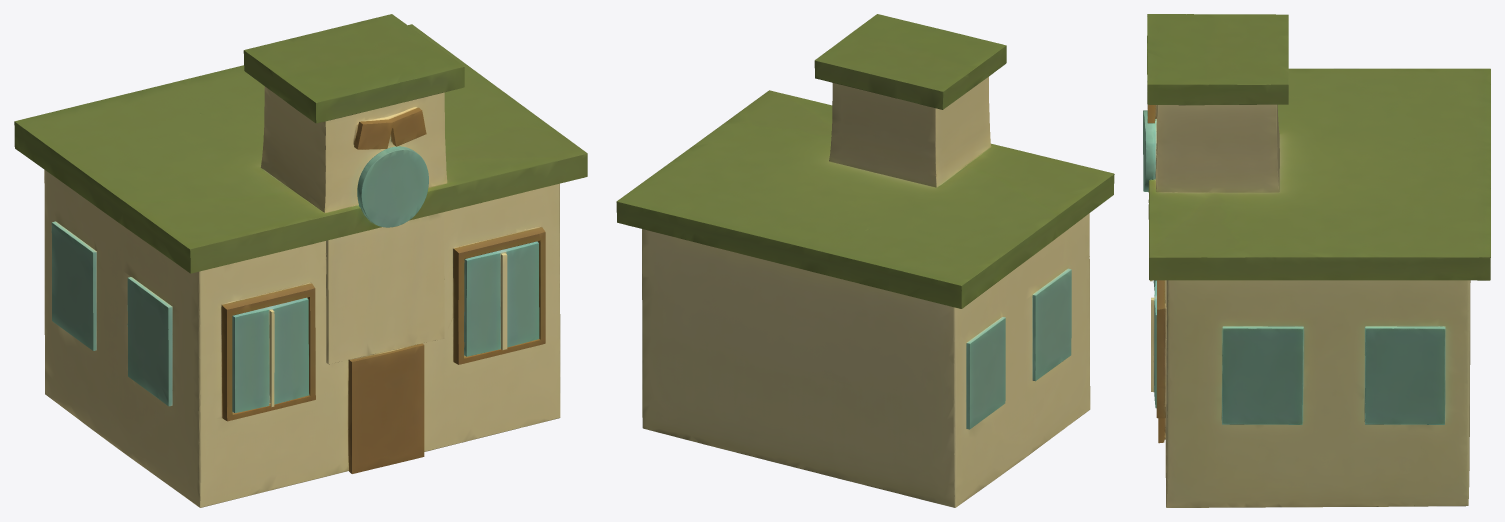
Rendered from source.glb.
3 views of the same model, side by side, from view 1: azimuth 30°, elevation 25°; view 2: azimuth 150°, elevation 25°; view 3: azimuth 270°, elevation 25° (orthographic). The views are drawn at different scales.
Parts seen in each view (by area): view 1: model; view 2: model; view 3: model.
Boxes of the visible parts, x1=… form: model: x1=14, y1=14, x2=587, y2=507; model: x1=616, y1=14, x2=1114, y2=507; model: x1=1143, y1=14, x2=1490, y2=507.
Size of the model in its own units: 1.89 by 1.76 by 1.47.
Materials: 1 (1 with a texture image).
